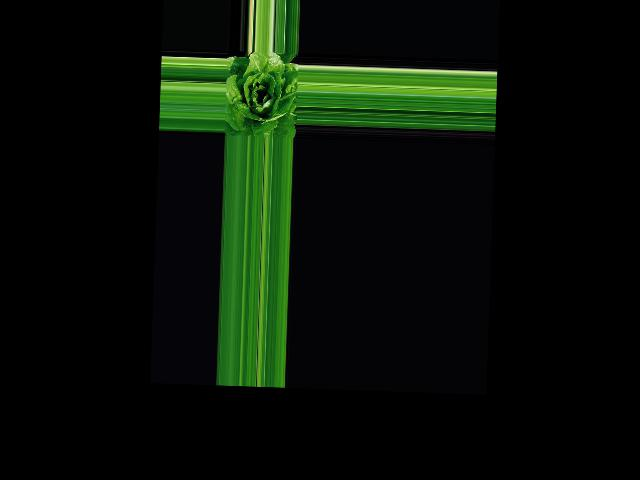lettuce: (226, 54, 299, 136)
